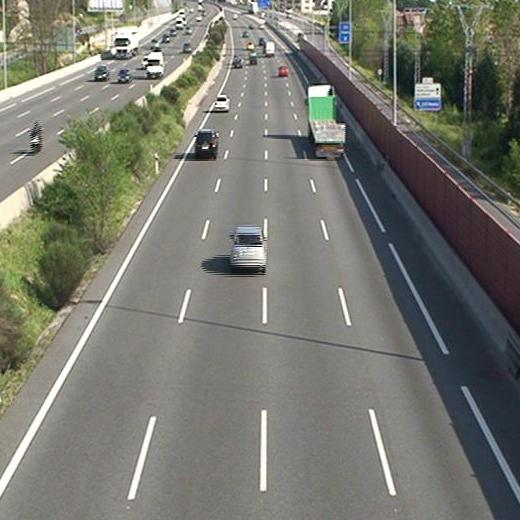car: (231, 229, 266, 269), (196, 130, 219, 156), (213, 95, 229, 110), (278, 65, 288, 76), (233, 59, 242, 68), (249, 56, 255, 63)
truck: (307, 85, 345, 156)
van: (265, 41, 274, 56)
